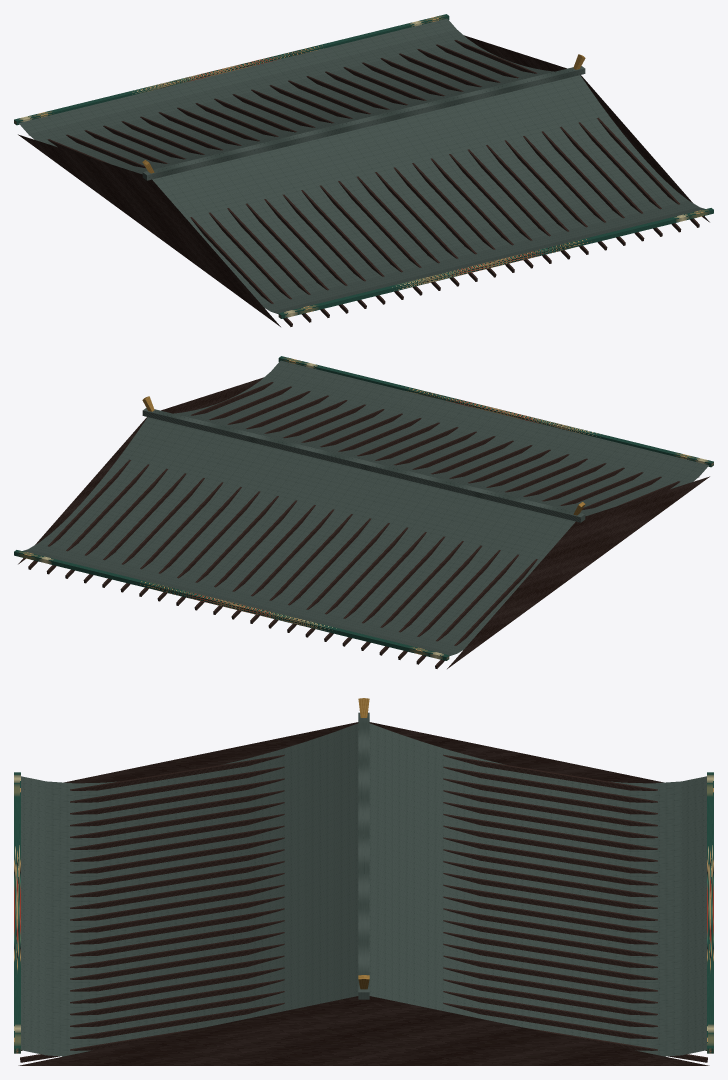
The model's file is hall_roof.glb.
3 renders of one model, top to bottom at view 1: azimuth 30°, elevation 25°; view 2: azimuth 150°, elevation 25°; view 3: azimuth 270°, elevation 25°, orthographic. The views are drawn at different scales.
Parts seen in each view (by area): view 1: hall_roof0; view 2: hall_roof0; view 3: hall_roof0.
Part boxes in pixels (x1=…): hall_roof0: x1=14, y1=14, x2=713, y2=326; hall_roof0: x1=14, y1=356, x2=713, y2=668; hall_roof0: x1=14, y1=698, x2=713, y2=1065.
Bounding box in the file's own units: 23.77 × 3.79 × 25.05.
1 material, 1 textured.
